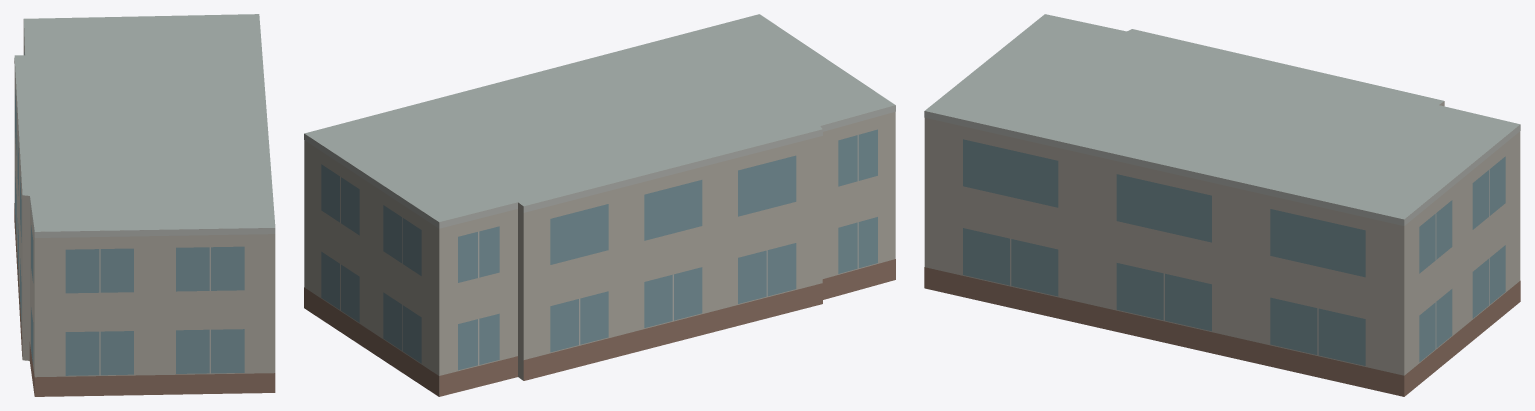
Rendered from survey-upis-32499568.glb.
The picture shows the model from 3 angles, left to right: view 1: azimuth 30°, elevation 25°; view 2: azimuth 150°, elevation 25°; view 3: azimuth 270°, elevation 25°; orthographic projection. The views are drawn at different scales.
Visible parts, largest first — view 1: survey-upis-32499568.tmp; view 2: survey-upis-32499568.tmp; view 3: survey-upis-32499568.tmp.
Boxes of the visible parts, box(x1,y1,x2,y2) form: survey-upis-32499568.tmp: box(14, 14, 275, 396); survey-upis-32499568.tmp: box(304, 14, 895, 396); survey-upis-32499568.tmp: box(924, 14, 1520, 396).
Size of the model in its own units: 16.16 by 6.5 by 19.8.
